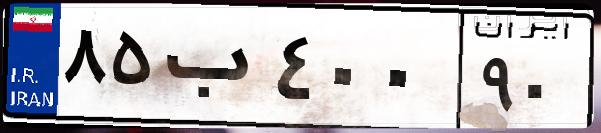0: (385, 28, 445, 110), (330, 28, 385, 110), (525, 38, 570, 115)
4: (270, 28, 330, 110)
5: (110, 28, 158, 98)
8: (57, 26, 110, 100)
9: (475, 38, 525, 113)
ب: (158, 20, 270, 120)
